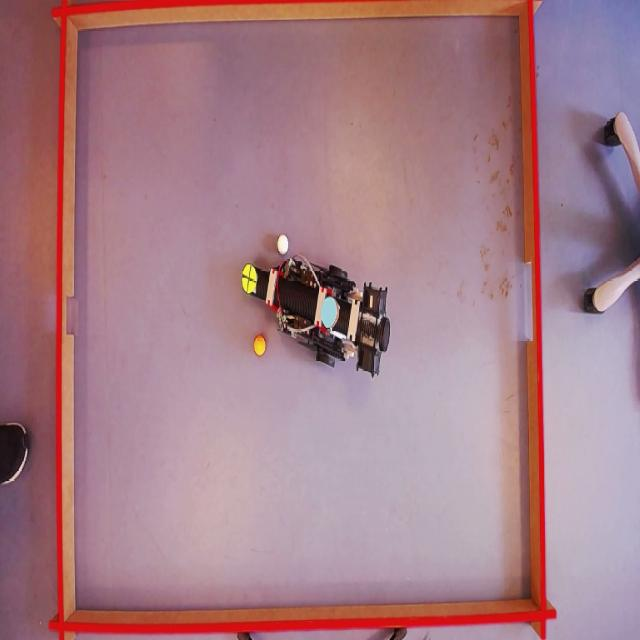orange: (254, 337, 268, 357)
robot: (241, 255, 398, 373)
robot-front: (241, 262, 258, 295)
robot-rear: (320, 292, 342, 331)
white: (275, 235, 289, 254)
